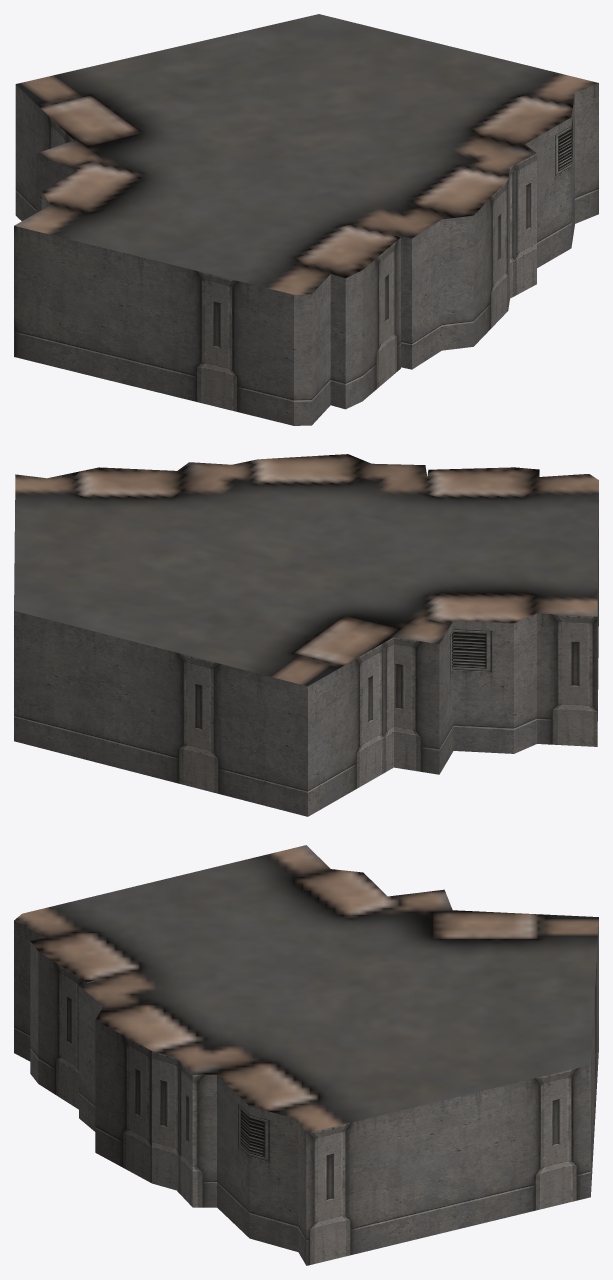
Rendered from building_hard_19.glb.
3 renders of one model, top to bottom at view 1: azimuth 30°, elevation 25°; view 2: azimuth 150°, elevation 25°; view 3: azimuth 270°, elevation 25°, orthographic.
Visible parts, largest first — view 1: buildings/saxarba/building_hard/building_hard_19; view 2: buildings/saxarba/building_hard/building_hard_19; view 3: buildings/saxarba/building_hard/building_hard_19.
Boxes of the visible parts, x1,y1,x2,y2 form: buildings/saxarba/building_hard/building_hard_19: (14,14,598,425); buildings/saxarba/building_hard/building_hard_19: (14,454,598,816); buildings/saxarba/building_hard/building_hard_19: (14,845,598,1265).
Bounding box in the file's own units: 84 × 18 × 72.
